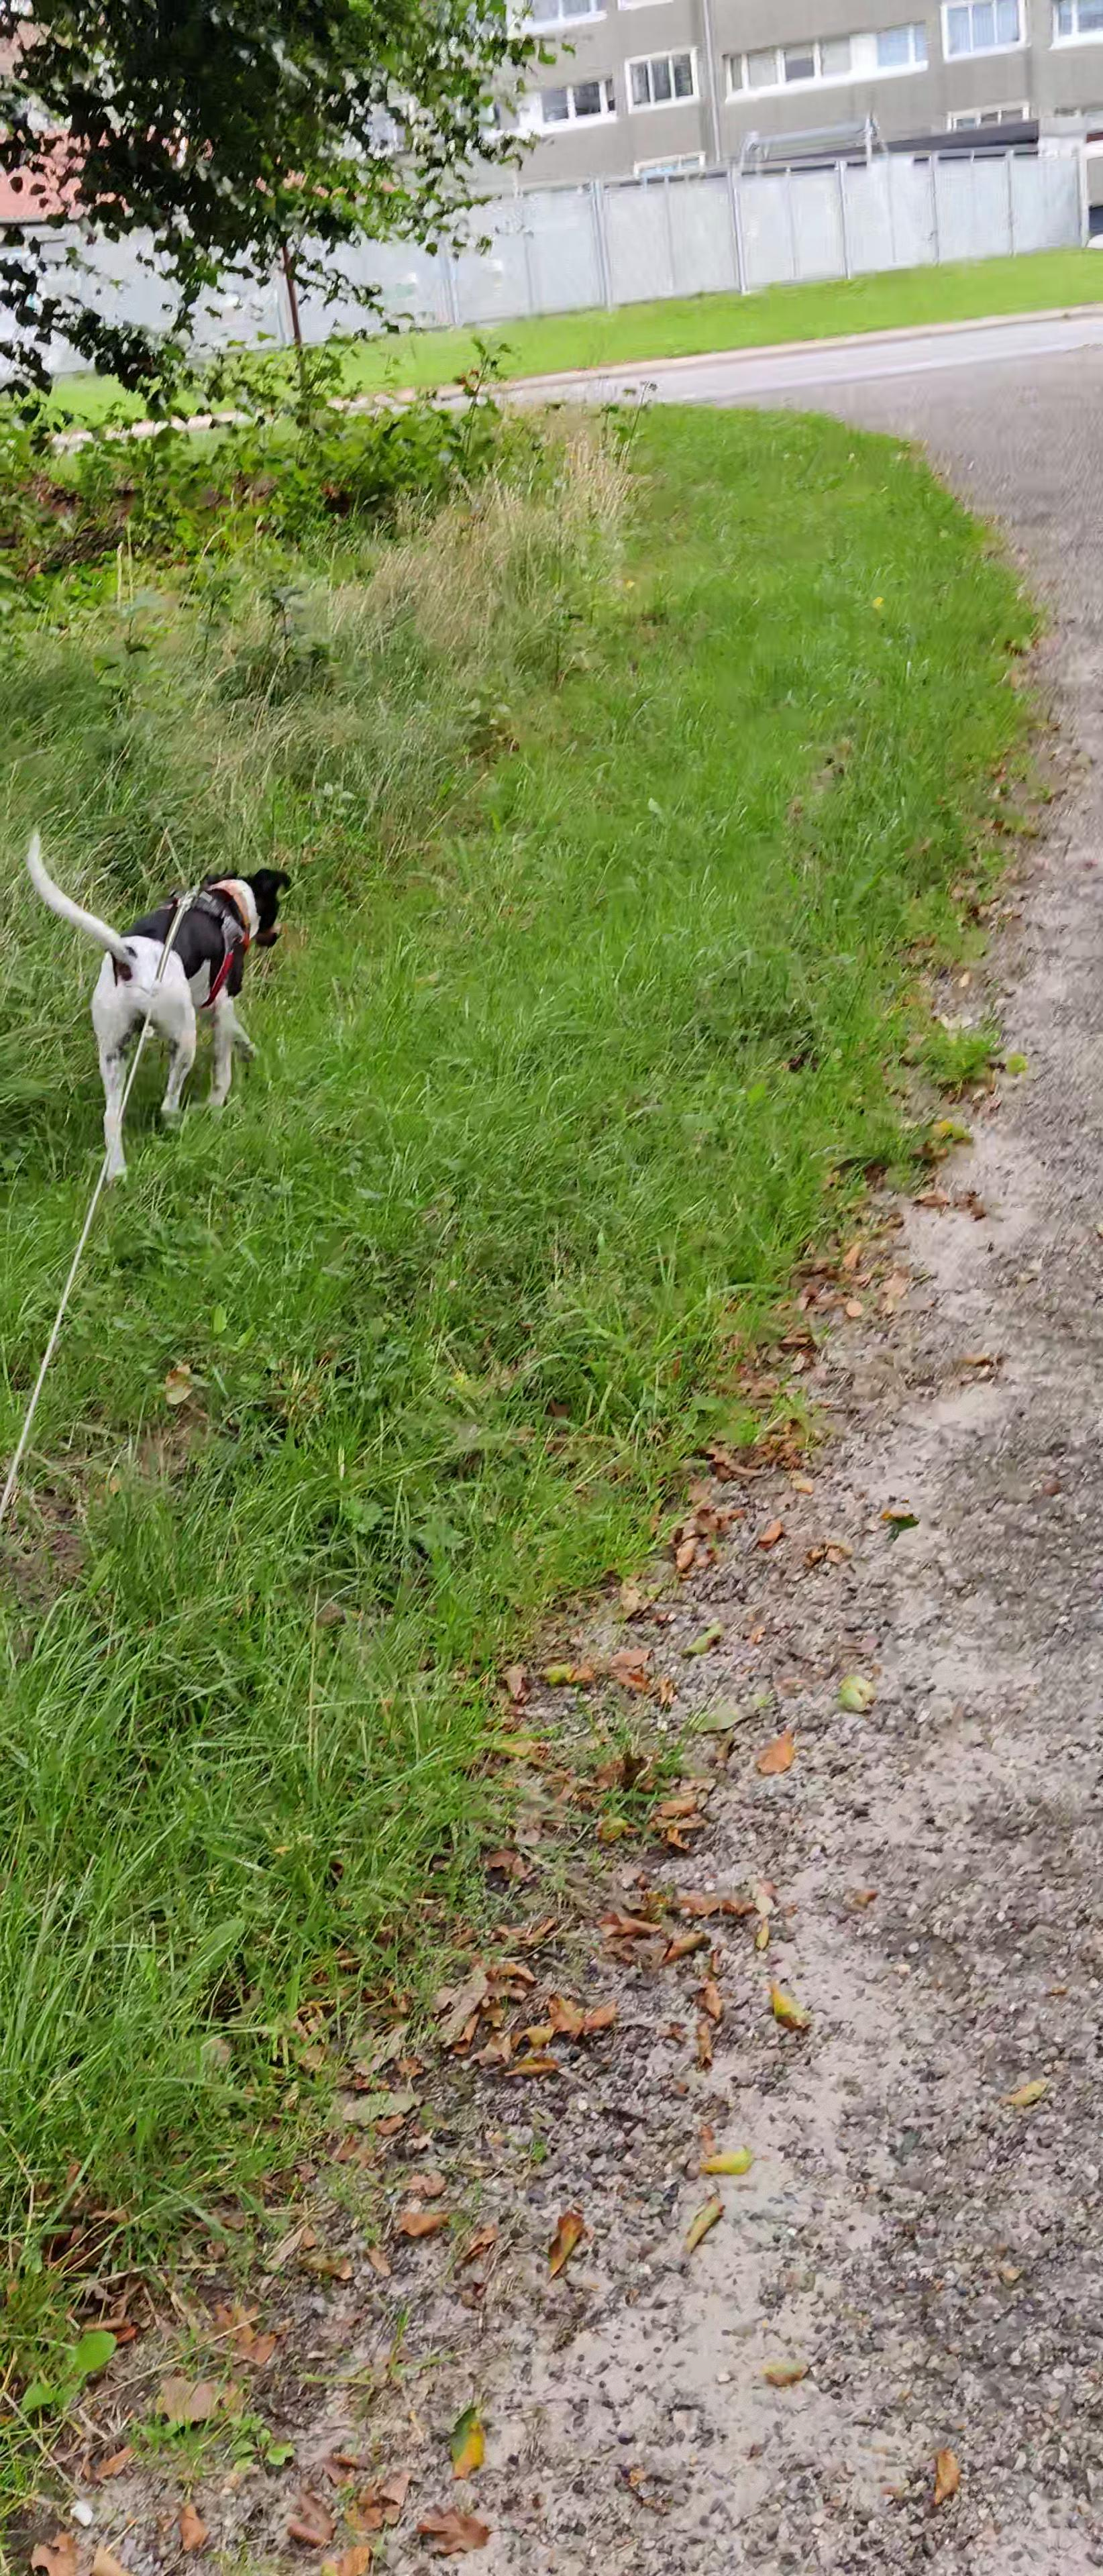Dog: (20, 813, 312, 1196)
